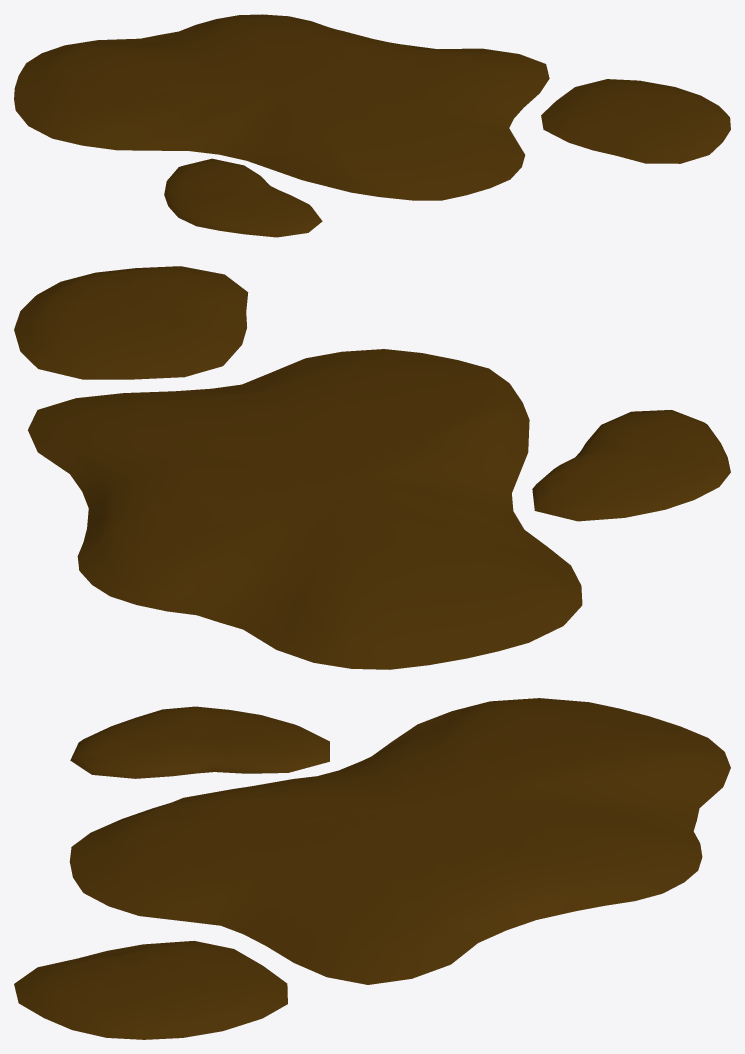
Rendered from SM_Mud.fbx.
3 views of the same model, one above another, from view 1: azimuth 30°, elevation 25°; view 2: azimuth 150°, elevation 25°; view 3: azimuth 270°, elevation 25° (orthographic). The views are drawn at different scales.
Parts seen in each view (by area): view 1: Flaque_de_boue, pSphere1, pSphere2; view 2: Flaque_de_boue, pSphere1, pSphere2; view 3: Flaque_de_boue, pSphere1, pSphere2.
Part boxes in pixels (x1=…): Flaque_de_boue: x1=14, y1=14, x2=549, y2=200; pSphere1: x1=541, y1=79, x2=730, y2=163; pSphere2: x1=164, y1=158, x2=322, y2=237; Flaque_de_boue: x1=28, y1=349, x2=582, y2=669; pSphere1: x1=14, y1=266, x2=248, y2=379; pSphere2: x1=532, y1=410, x2=730, y2=521; Flaque_de_boue: x1=69, y1=698, x2=730, y2=984; pSphere1: x1=14, y1=941, x2=287, y2=1039; pSphere2: x1=70, y1=706, x2=329, y2=778.
Bounding box in the file's own units: 142 × 4.93 × 125.
